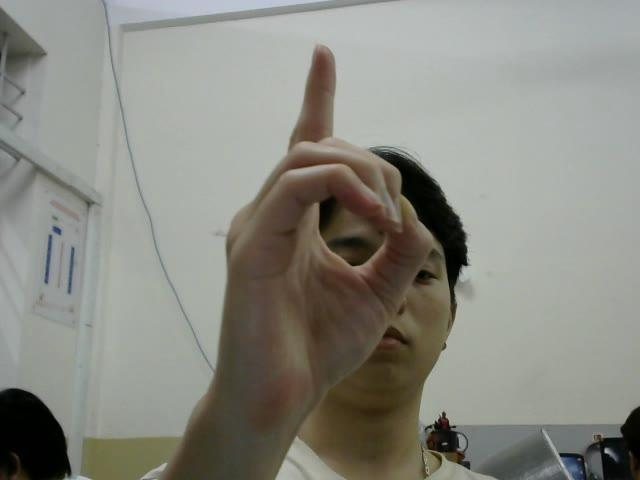D: (220, 41, 436, 413)
